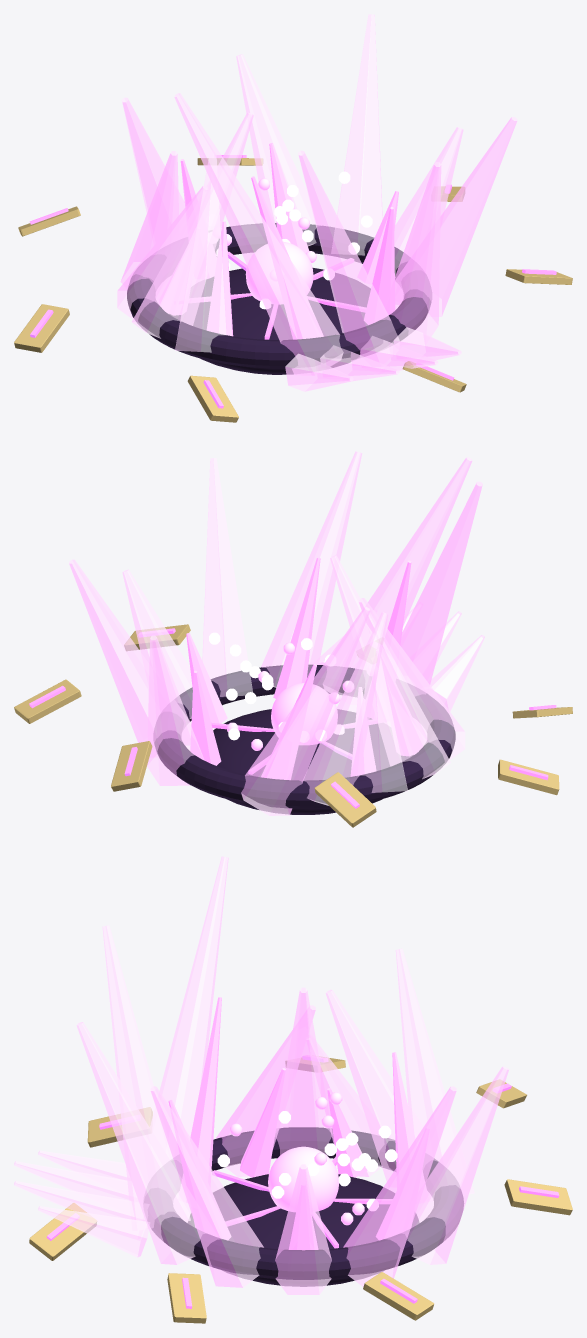
Rendered from keeper_overlord_echo.glb.
3 renders of one model, top to bottom at view 1: azimuth 30°, elevation 25°; view 2: azimuth 150°, elevation 25°; view 3: azimuth 270°, elevation 25°, orthographic. The views are drawn at different scales.
Visible parts, largest first — view 1: Cone; view 2: Cone; view 3: Cone.
Part boxes in pixels (x1=…): Cone: x1=14, y1=14, x2=572, y2=422; Cone: x1=14, y1=451, x2=572, y2=827; Cone: x1=14, y1=856, x2=572, y2=1323.
Size of the model in its own units: 6.47 by 3.9 by 5.95.
